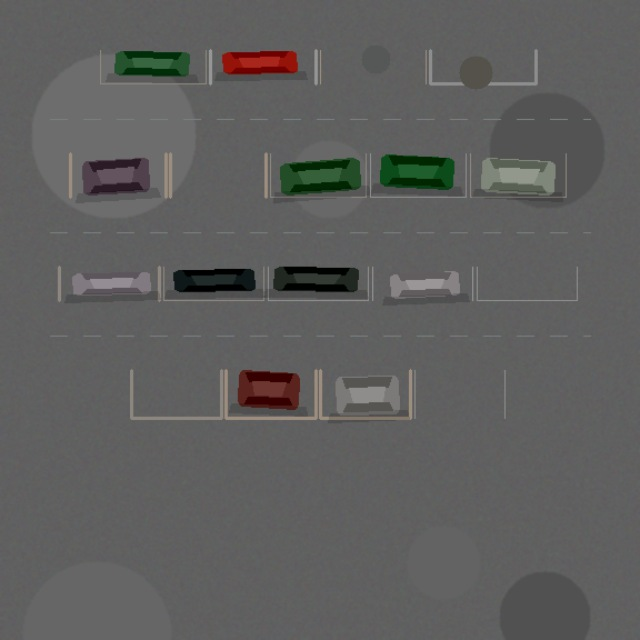space-empty: (131, 370, 221, 418), (414, 370, 504, 418), (170, 153, 266, 197), (320, 50, 426, 83), (430, 50, 536, 83), (477, 267, 577, 300)
space-occupied: (226, 370, 316, 418), (320, 370, 410, 418), (70, 153, 166, 197), (270, 153, 366, 197), (370, 153, 466, 197), (470, 153, 566, 197), (100, 50, 206, 83), (210, 50, 316, 83), (59, 267, 159, 300), (163, 267, 263, 300), (268, 267, 368, 300), (372, 267, 472, 300)
